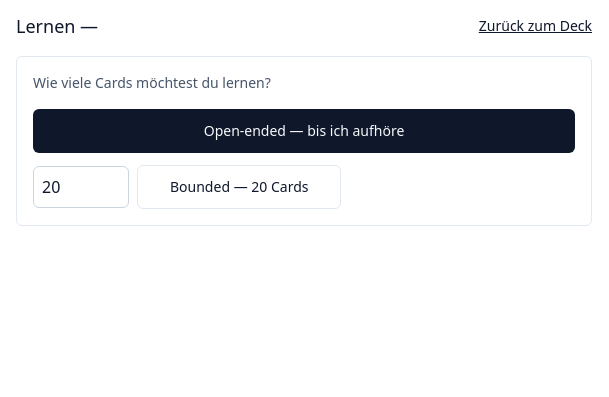
Test: Cascade-key invariant — ReviewSessionPage `listDueCardsInDeck` › excludes pending-deleted child cards from the per-deck loader
What coordinates should you click on to do the following:
click the button "Open-ended — bis ich aufhöre"
I would click on:
 (304, 131)
Its box is [33,109,575,153].
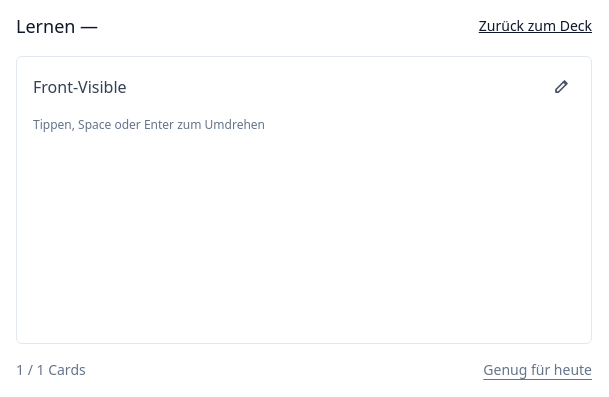
Result: the text "Front-Visible" is shown at [33,76,127,98]
